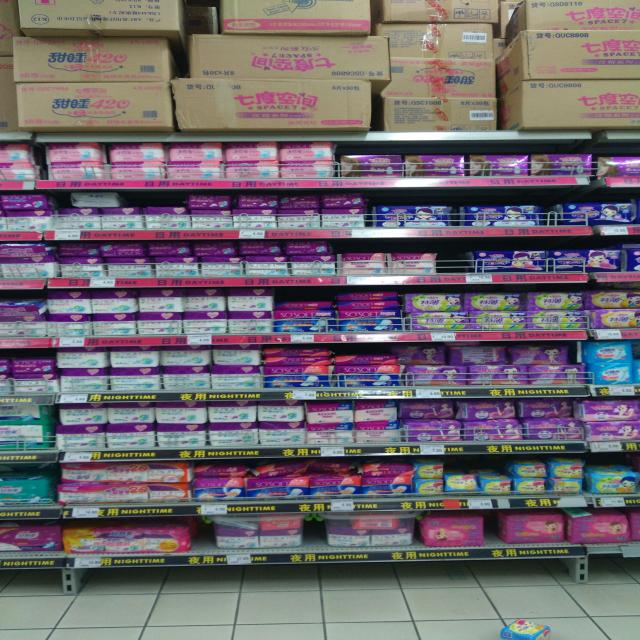empty: (432, 243, 480, 276)
